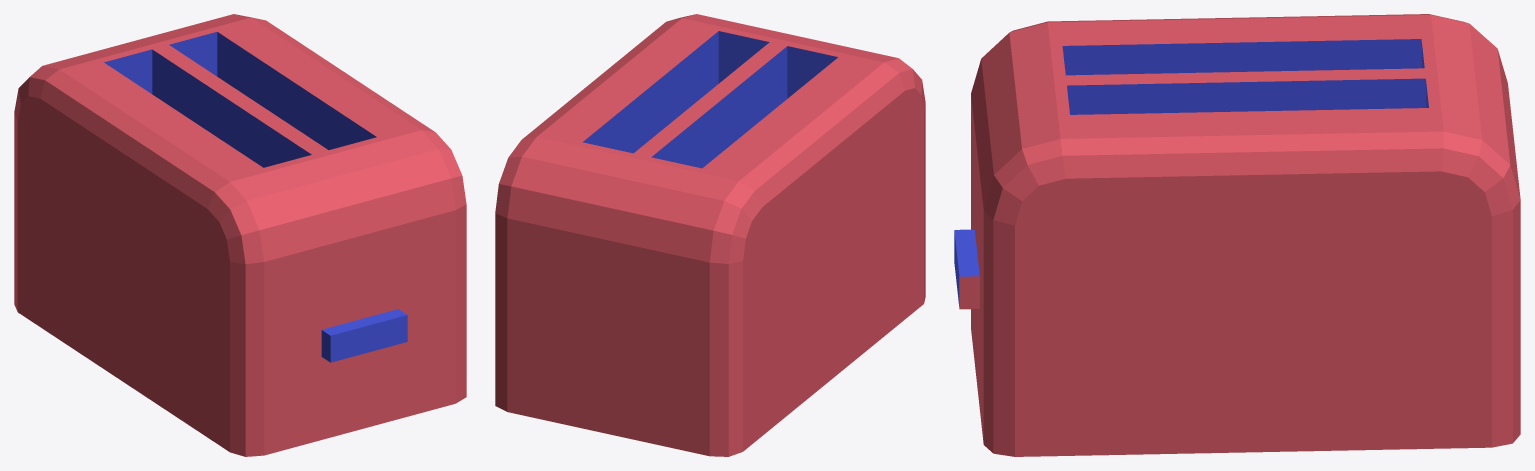
Rendered from Toaster.fbx.
3 views of the same model, side by side, from view 1: azimuth 30°, elevation 25°; view 2: azimuth 150°, elevation 25°; view 3: azimuth 270°, elevation 25° (orthographic). The views are drawn at different scales.
Visible parts, largest first — view 1: Toaster; view 2: Toaster; view 3: Toaster.
Boxes of the visible parts, x1,y1,x2,y2 form: Toaster: (14,14,466,456); Toaster: (495,14,925,456); Toaster: (954,14,1520,456).
Bounding box in the file's own units: 38.03 × 35.73 × 60.23.
